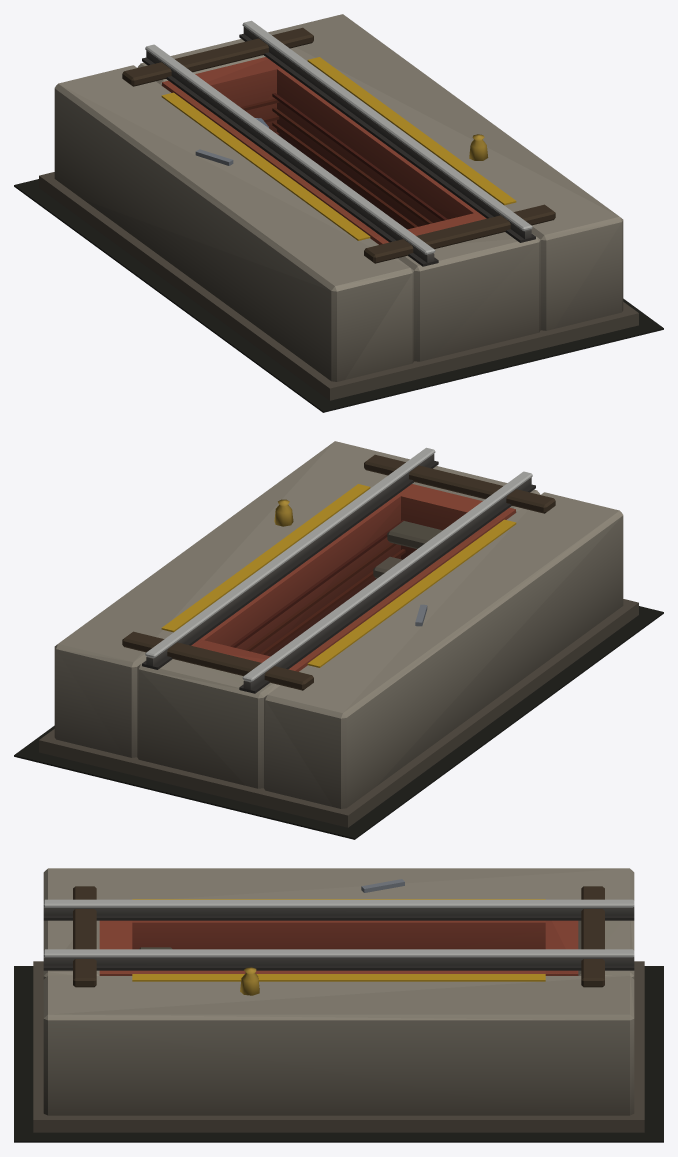
Rendered from inspection-pit.glb.
3 renders of one model, top to bottom at view 1: azimuth 30°, elevation 25°; view 2: azimuth 150°, elevation 25°; view 3: azimuth 270°, elevation 25°, orthographic. The views are drawn at different scales.
Parts seen in each view (by area): view 1: inspection_pit; view 2: inspection_pit; view 3: inspection_pit.
Part boxes in pixels (x1=…): inspection_pit: x1=14, y1=14, x2=663, y2=412; inspection_pit: x1=14, y1=441, x2=663, y2=839; inspection_pit: x1=14, y1=868, x2=663, y2=1142.
Size of the model in its own units: 2.8 by 1.02 by 4.4.
